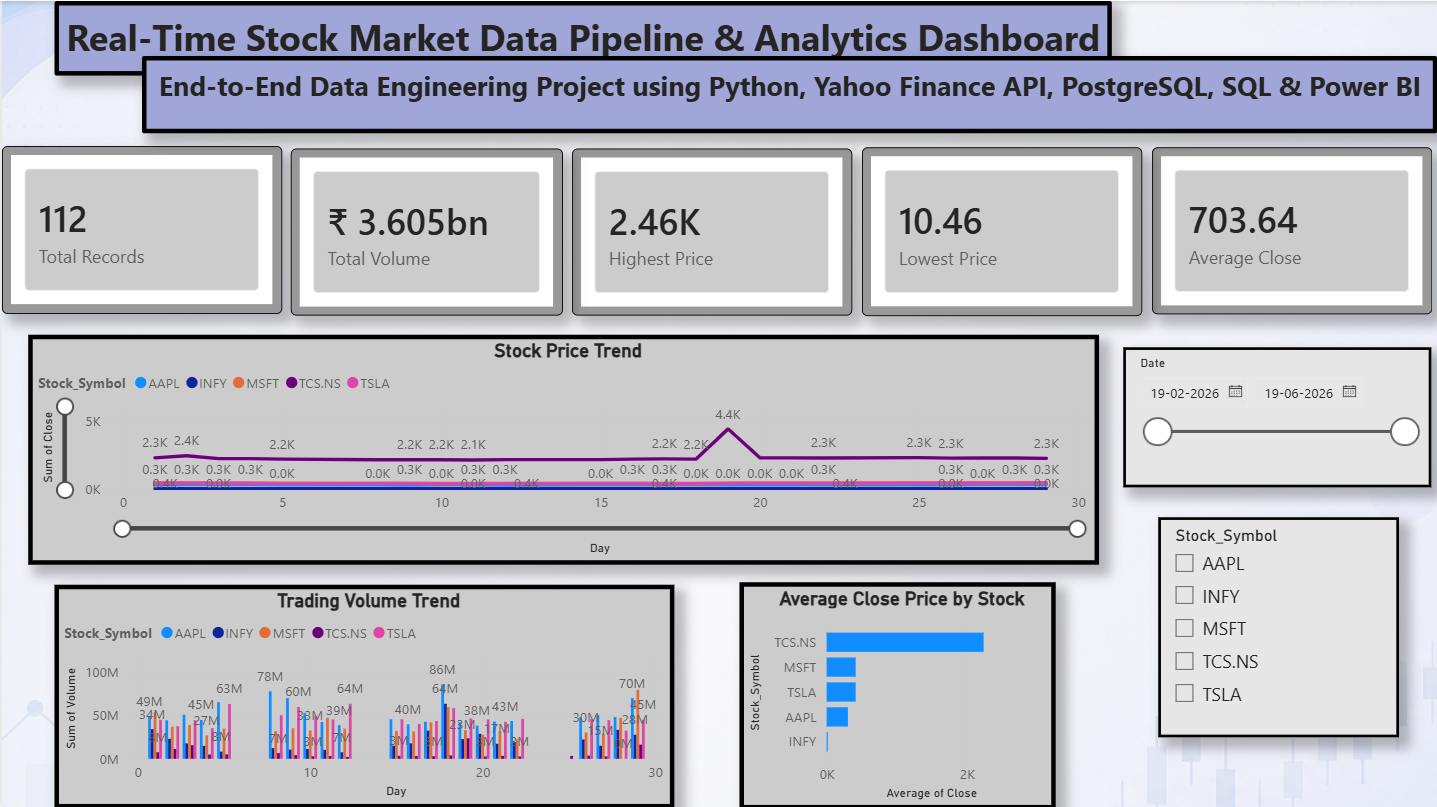

What the dashboard file says about the page in this screenshot:
{"tool":"powerbi","page":{"name":"Page 1","canvas":[1280,720],"ordinal":0},"visuals":[{"type":"cardVisual","fields":{"Data":["Clean_Stock_Data.Average Close"]},"box":[1024.1,130.2,249.4,149.2],"z":0},{"type":"cardVisual","fields":{"Data":["Clean_Stock_Data.Highest Price"]},"box":[507.6,131.4,249.4,149.2],"z":1},{"type":"cardVisual","fields":{"Data":["Clean_Stock_Data.Lowest Price"]},"box":[765.9,130.2,249.4,150.3],"z":2},{"type":"cardVisual","fields":{"Data":["Clean_Stock_Data.Total Records"]},"box":[0,129,249.7,149.6],"z":3},{"type":"cardVisual","fields":{"Data":["Clean_Stock_Data.Total Volume"]},"box":[257.1,131.4,242.7,149.2],"z":4},{"type":"lineChart","title":" Stock Price Trend","fields":{"Category":["Clean_Stock_Data.Date.Variation.Date Hierarchy.Day"],"Y":["Sum(Clean_Stock_Data.Close)"],"Series":["Clean_Stock_Data.Stock_Symbol"]},"box":[23.3,297.8,953.7,204.5],"z":5},{"type":"clusteredColumnChart","title":"Trading Volume Trend","fields":{"Category":["Clean_Stock_Data.Date.Variation.Date Hierarchy.Day"],"Y":["Sum(Clean_Stock_Data.Volume)"],"Series":["Clean_Stock_Data.Stock_Symbol"]},"box":[46.7,520.1,551.6,199],"z":6},{"type":"clusteredBarChart","title":"Average Close Price by Stock","fields":{"Category":["Clean_Stock_Data.Stock_Symbol"],"Y":["Avg(Clean_Stock_Data.Close)"]},"box":[657.3,517.3,281.3,203.1],"z":7},{"type":"slicer","fields":{"Values":["Clean_Stock_Data.Date"]},"box":[999,308.7,274.4,124.9],"z":8},{"type":"slicer","fields":{"Values":["Clean_Stock_Data.Stock_Symbol"]},"box":[1029.2,459.7,214.1,196.2],"z":9},{"type":"textbox","box":[47.2,0,941.6,66.1],"z":10},{"type":"textbox","box":[124.9,49.4,1154,68.6],"z":11}]}

Visuals, with their boxes in screenshot pixels (x1, y1, x2, y2), scaled from the page's 1280x720 canvas onto the 1437x807 screenshot:
cardVisual - Clean_Stock_Data.Average Close: crop(1150, 146, 1430, 313)
cardVisual - Clean_Stock_Data.Highest Price: crop(570, 147, 850, 315)
cardVisual - Clean_Stock_Data.Lowest Price: crop(860, 146, 1140, 314)
cardVisual - Clean_Stock_Data.Total Records: crop(0, 145, 280, 312)
cardVisual - Clean_Stock_Data.Total Volume: crop(289, 147, 561, 315)
" Stock Price Trend" lineChart: crop(26, 334, 1097, 563)
"Trading Volume Trend" clusteredColumnChart: crop(52, 583, 672, 806)
"Average Close Price by Stock" clusteredBarChart: crop(738, 580, 1054, 806)
slicer - Clean_Stock_Data.Date: crop(1122, 346, 1430, 486)
slicer - Clean_Stock_Data.Stock_Symbol: crop(1155, 515, 1396, 735)
textbox: crop(53, 0, 1110, 74)
textbox: crop(140, 55, 1436, 132)
